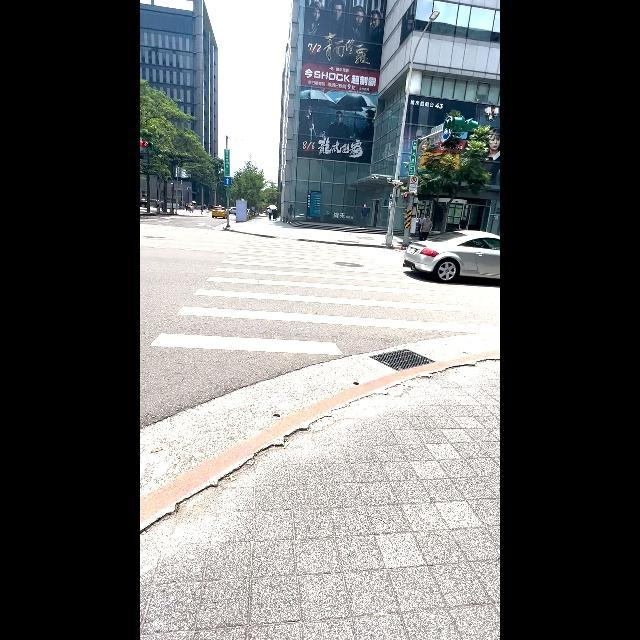sidewalk: (140, 227, 483, 516)
